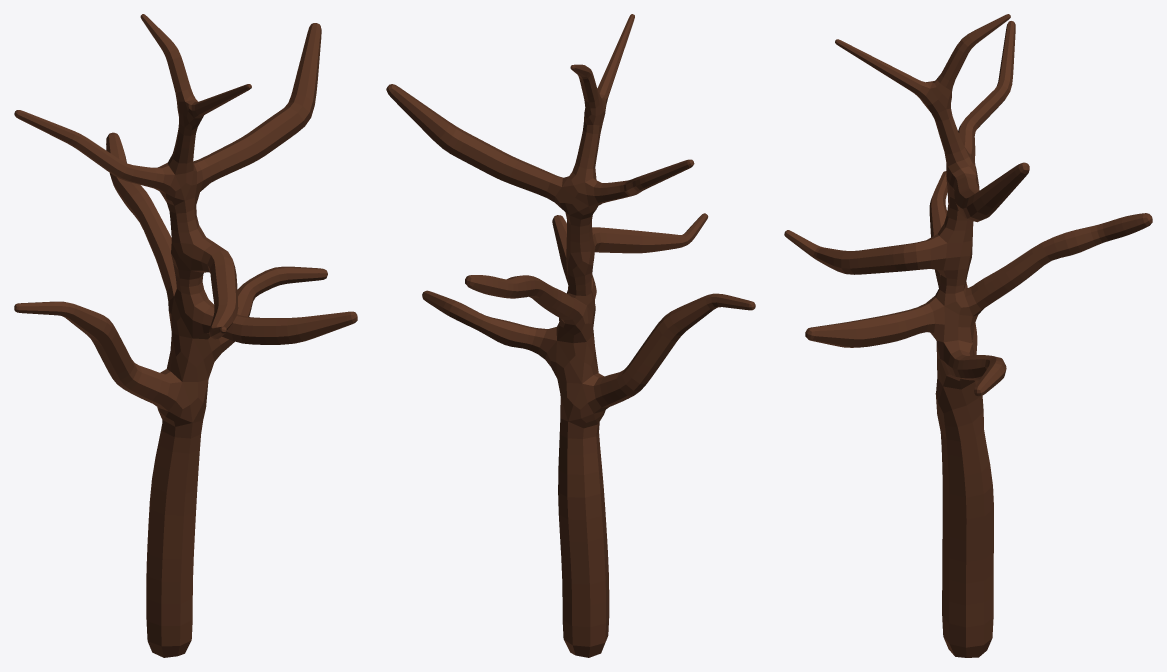
The model's file is tree02.fbx.
3 views of the same model, side by side, from view 1: azimuth 30°, elevation 25°; view 2: azimuth 150°, elevation 25°; view 3: azimuth 270°, elevation 25° (orthographic). The views are drawn at different scales.
Parts seen in each view (by area): view 1: Cube; view 2: Cube; view 3: Cube.
Part boxes in pixels (x1,y1,x2,y2): Cube: (14, 14, 357, 657); Cube: (386, 14, 755, 657); Cube: (784, 14, 1152, 657).
Bounding box in the file's own units: 187 × 328 × 171.
